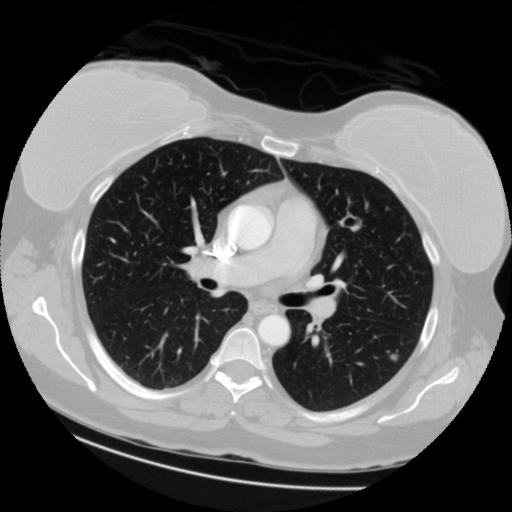nodule: (345, 217, 364, 236)
